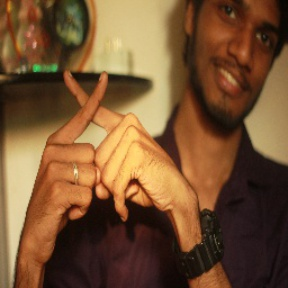X: (46, 58, 127, 158)
